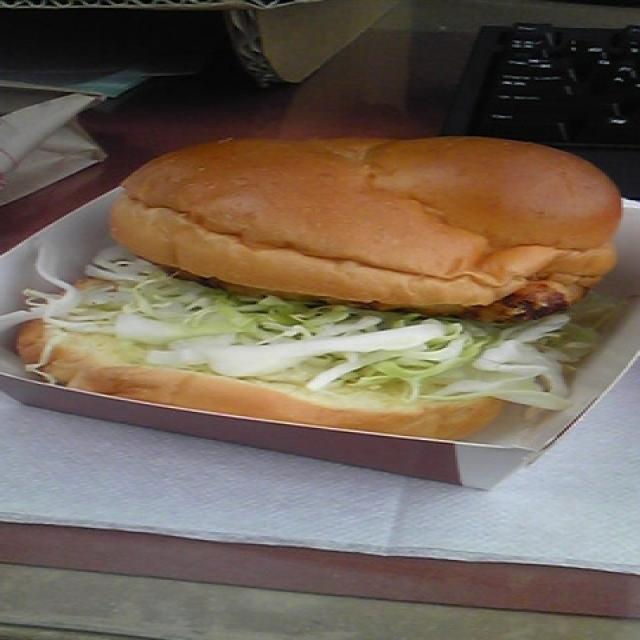Hamburger: (31, 137, 640, 444)
